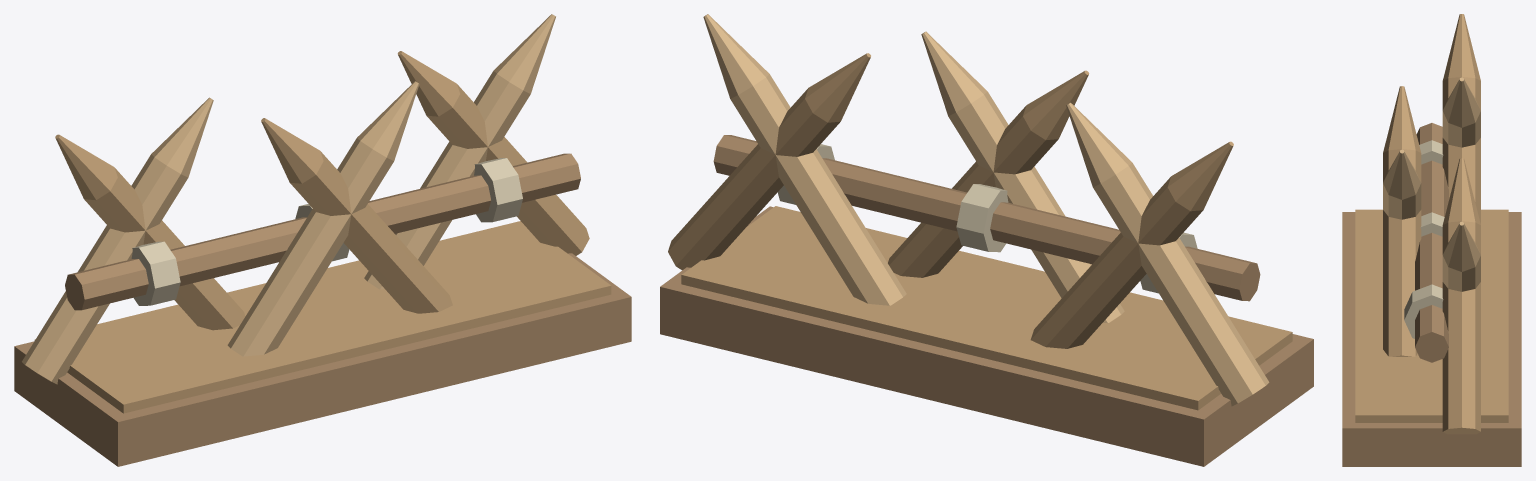
The model's file is ws_gate_barricade.glb.
3 views of the same model, side by side, from view 1: azimuth 30°, elevation 25°; view 2: azimuth 150°, elevation 25°; view 3: azimuth 270°, elevation 25° (orthographic). The views are drawn at different scales.
Parts seen in each view (by area): view 1: ws_gate_barricade; view 2: ws_gate_barricade; view 3: ws_gate_barricade.
Boxes of the visible parts, box(x1,y1,x2,y2) form: ws_gate_barricade: box(14, 14, 631, 466); ws_gate_barricade: box(660, 14, 1313, 466); ws_gate_barricade: box(1342, 14, 1521, 466).
Bounding box in the file's own units: 1.31 × 0.6233 × 0.42.
